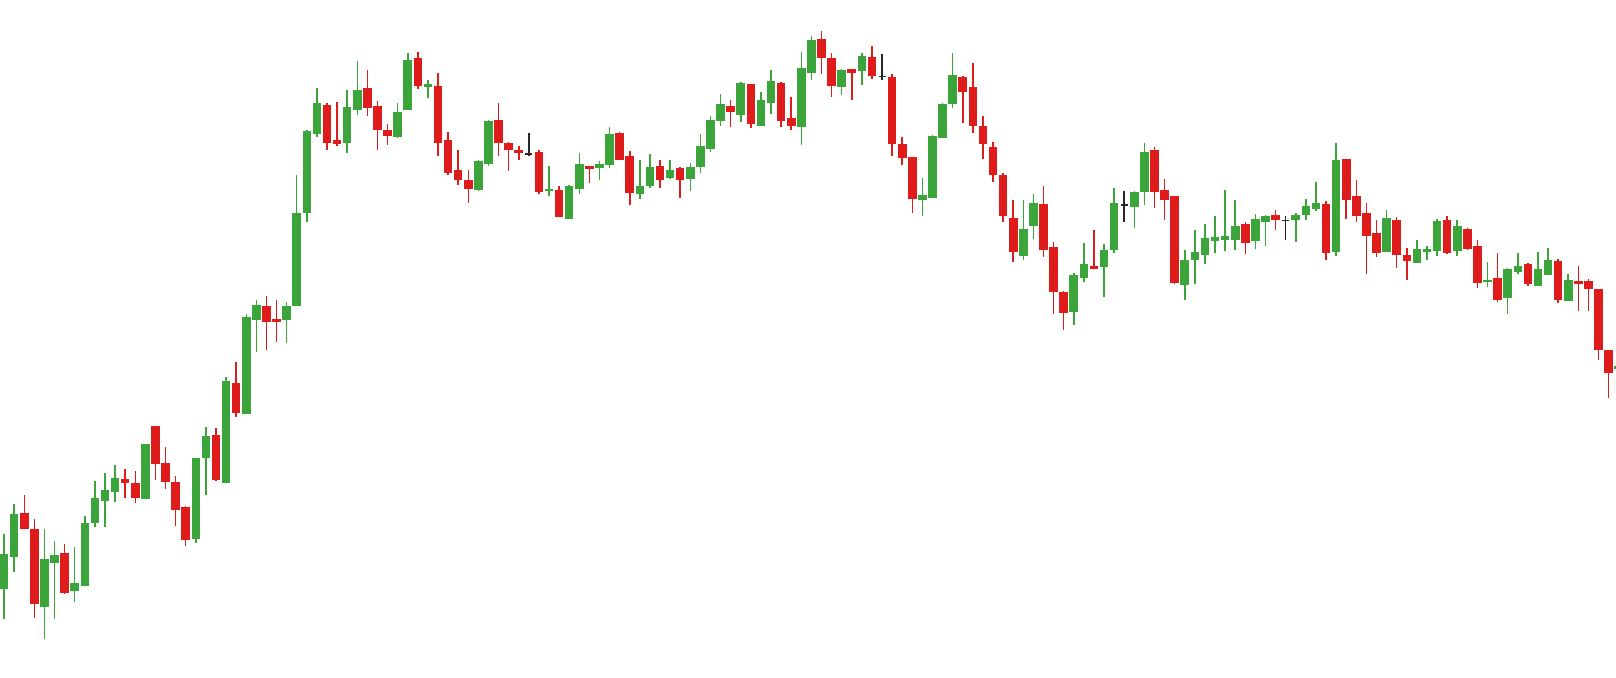sell: (765, 28, 838, 105), (350, 47, 424, 122)
